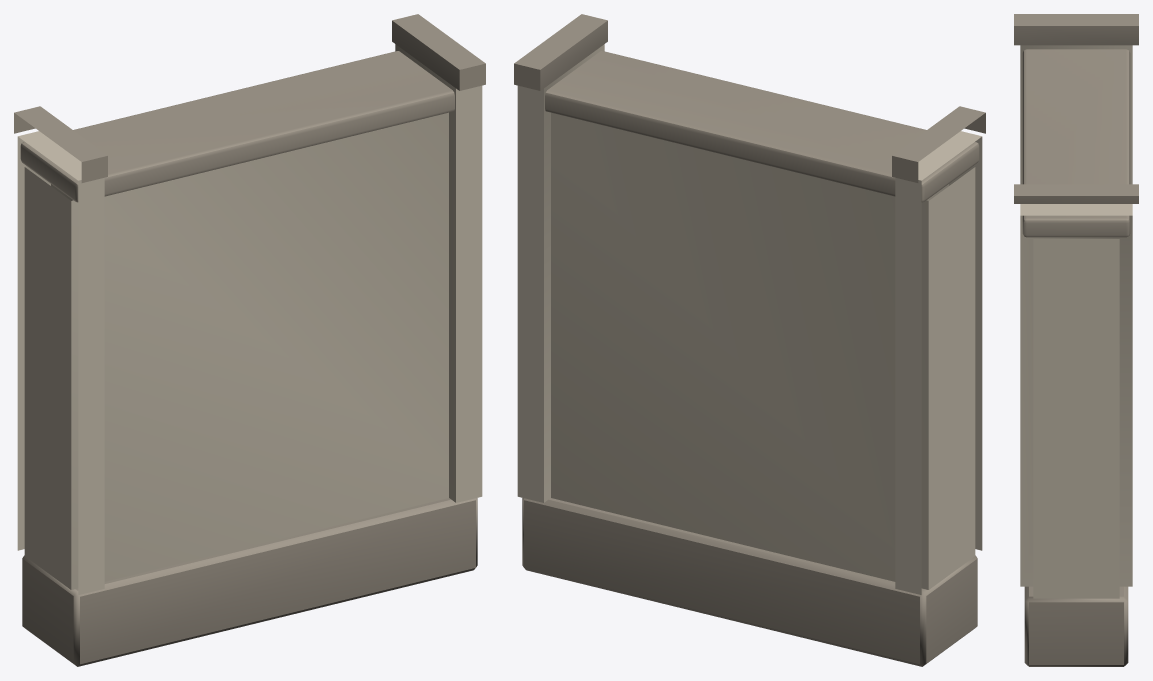
File: SchoolWall.fbx
3 renders of one model, left to right at view 1: azimuth 30°, elevation 25°; view 2: azimuth 150°, elevation 25°; view 3: azimuth 270°, elevation 25°, orthographic. The views are drawn at different scales.
Visible parts, largest first — view 1: SchoolWall; view 2: SchoolWall; view 3: SchoolWall.
Part boxes in pixels (x1=…): SchoolWall: x1=14, y1=14, x2=485, y2=666; SchoolWall: x1=514, y1=14, x2=985, y2=666; SchoolWall: x1=1014, y1=14, x2=1138, y2=666.
Bounding box in the file's own units: 2 × 2.42 × 0.58.
